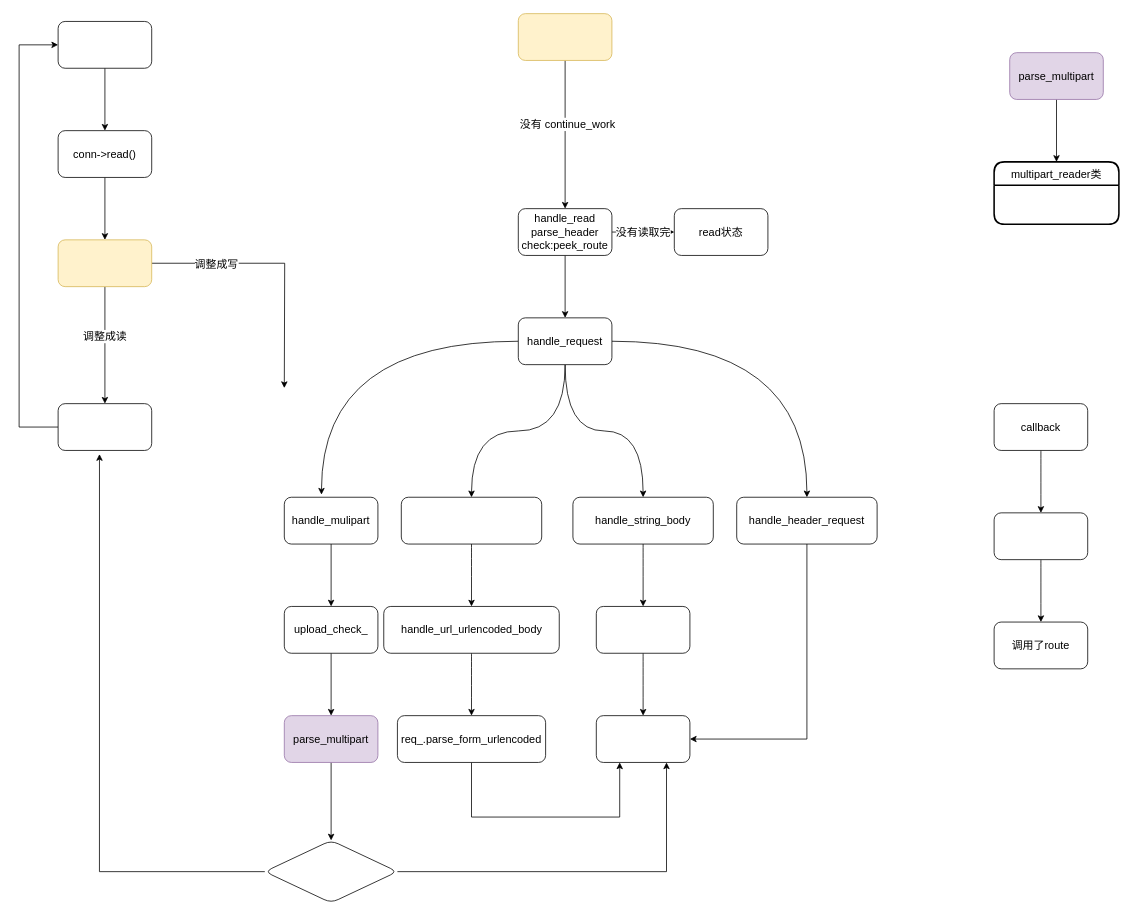
Some shapes in this 1133 by 916 pixel diagram are drawn without their labels. The centre of each missing label's shape, as x and y in pixels:
"call_back" belongs at (643,738).
"conn->process" belongs at (565,36).
"handle_body" belongs at (643,629).
"handle_form_urlencoded" belongs at (471,520).
"has_recieved_all_part" belongs at (330,871).
"http_handle_" belongs at (1040,536).
"onProcess conn->process" belongs at (104,263).
"onRead" belongs at (104,44).
